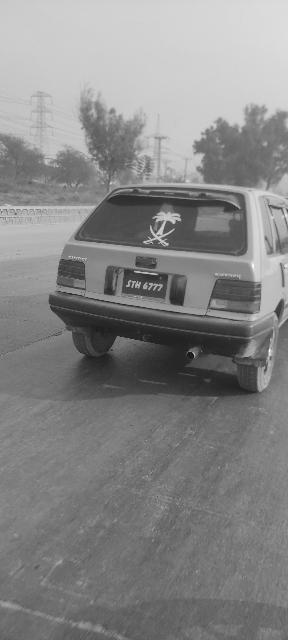Number: (124, 279, 164, 293)
